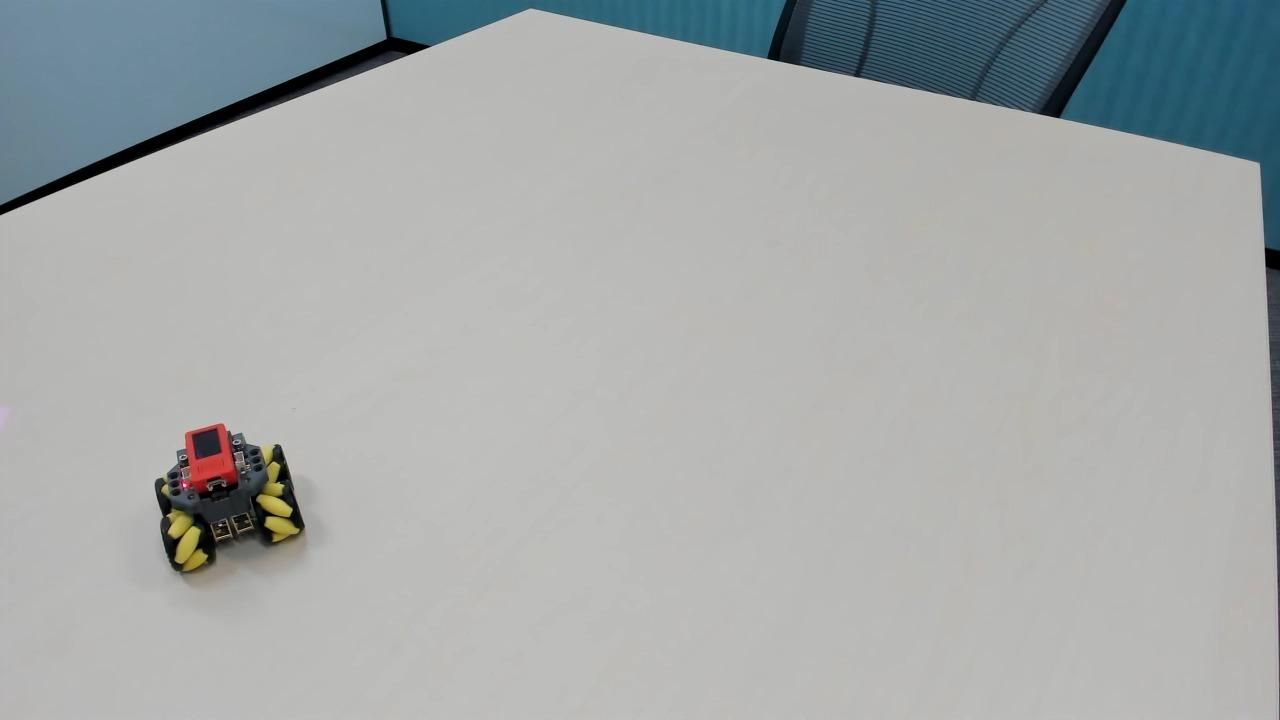R-Robot: (133, 405, 326, 599)
